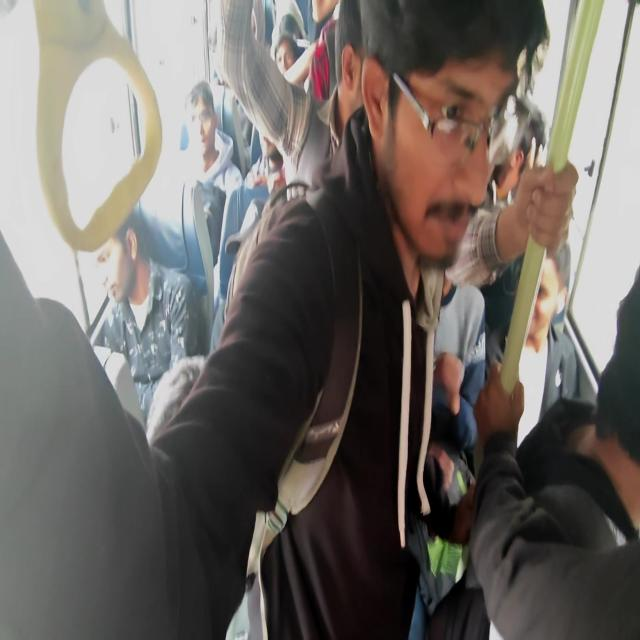person: (540, 243, 640, 551), (385, 49, 512, 277), (126, 360, 225, 640), (329, 1, 366, 146), (512, 4, 550, 100), (94, 226, 132, 303), (186, 78, 219, 150), (275, 39, 293, 72), (262, 132, 278, 156)
